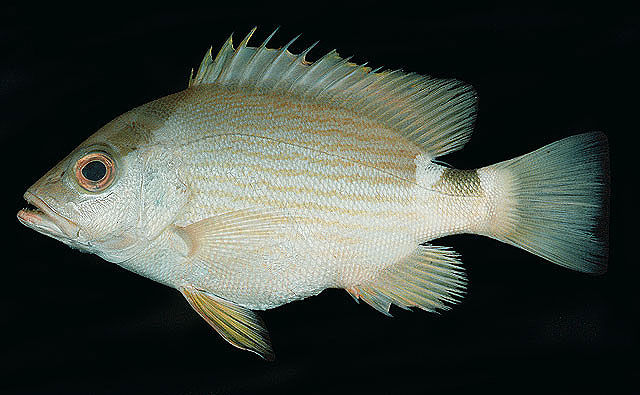fish: (17, 26, 605, 359)
